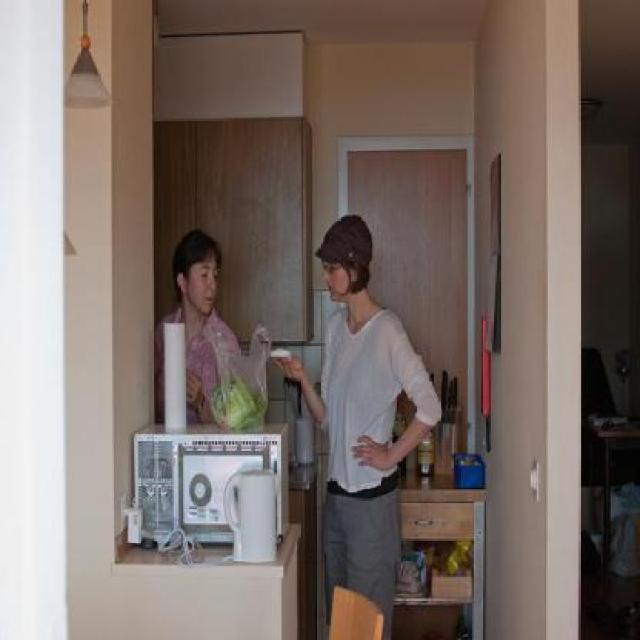Person: (270, 213, 441, 639), (149, 222, 240, 433)
